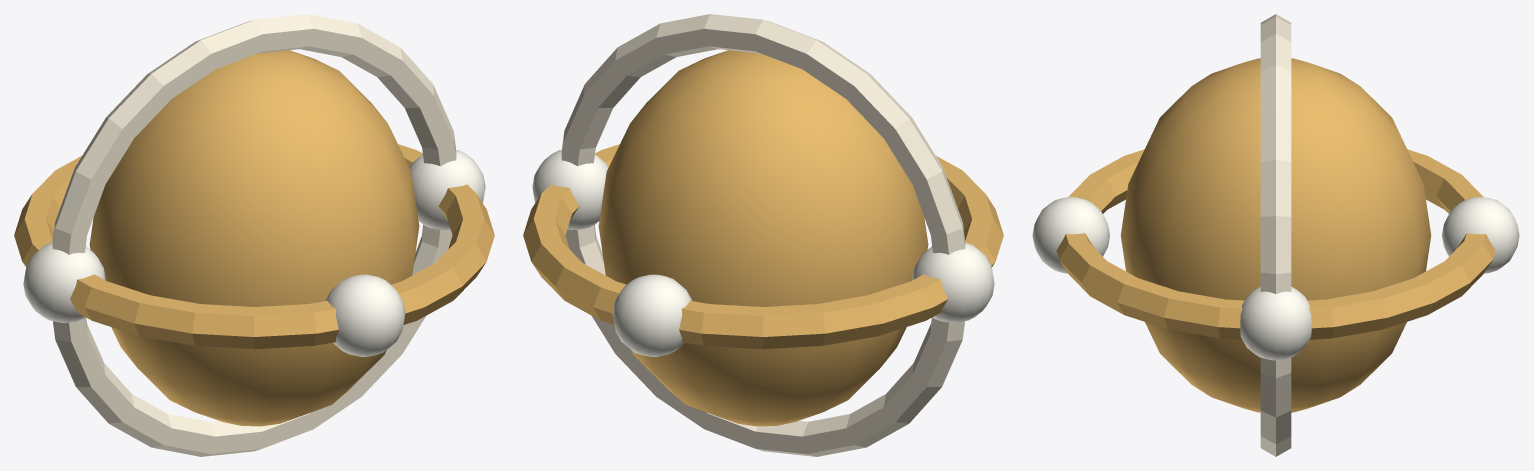
File: master_core.glb
3 renders of one model, left to right at view 1: azimuth 30°, elevation 25°; view 2: azimuth 150°, elevation 25°; view 3: azimuth 270°, elevation 25°, orthographic. The views are drawn at different scales.
Visible parts, largest first — view 1: master_core; view 2: master_core; view 3: master_core.
Boxes of the visible parts, x1,y1,x2,y2 form: master_core: (14,14,494,456); master_core: (523,14,1003,456); master_core: (1032,14,1519,456).
Size of the model in its own units: 0.69 by 0.63 by 0.69.
